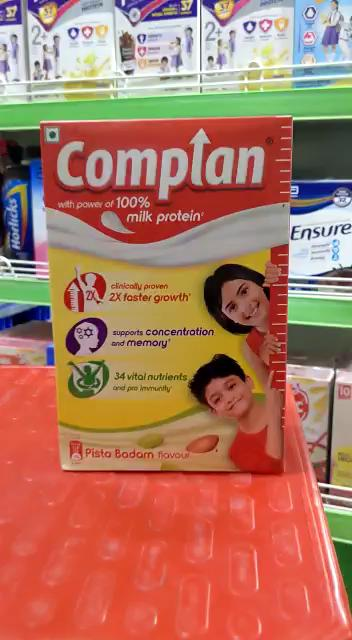Complan Pista Badam: (38, 107, 300, 483)
